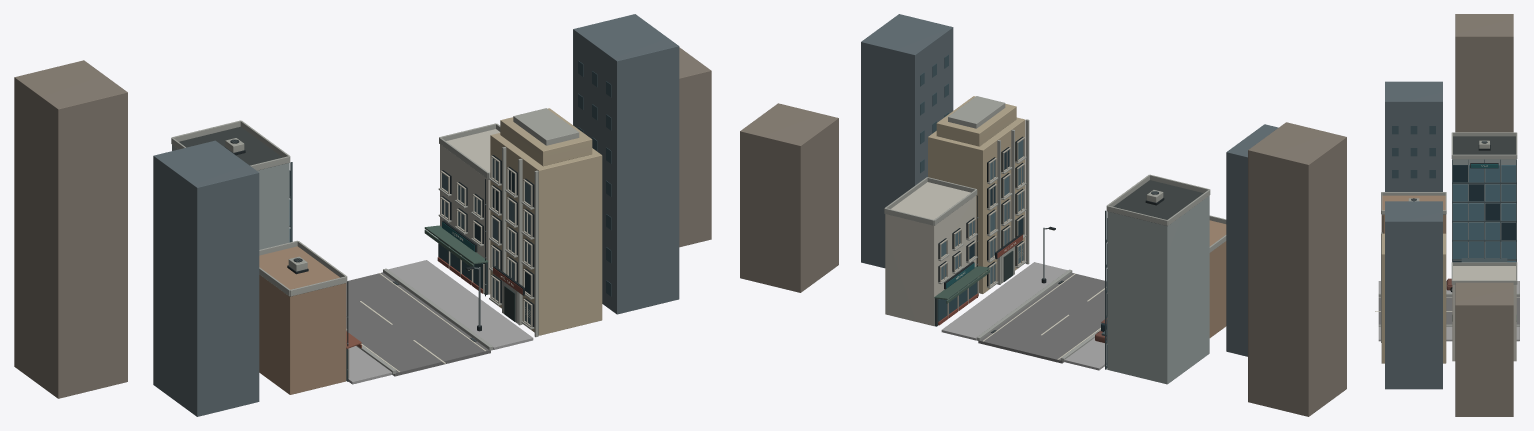
The model's file is city_hd_06.glb.
3 renders of one model, left to right at view 1: azimuth 30°, elevation 25°; view 2: azimuth 150°, elevation 25°; view 3: azimuth 270°, elevation 25°, orthographic. The views are drawn at different scales.
Visible parts, largest first — view 1: CITY_distant_2, CITY_distant_3, CITY_wall_ivory, Mixed use shop volume, CITY_PBR_asphalt, CITY_trim, CITY_PBR_pavement, CITY_frame, Mixed use shop volume.001, Office core, CITY_glass, CITY_roof (+6 smaller); view 2: CITY_distant_3, CITY_distant_2, Office core, Mixed use shop volume.001, CITY_wall_ivory, CITY_PBR_asphalt, CITY_trim, CITY_PBR_pavement, CITY_frame, Mixed use shop volume, CITY_roof, CITY_glass (+4 smaller); view 3: CITY_distant_2, CITY_distant_3, CITY_office_glass, CITY_trim, Mixed use shop volume.001, CITY_office_frame, Office core, CITY_roof, CITY_glass_dark, CITY_wall_ivory, Mixed use shop volume, CITY_distant_window (+3 smaller).
Part boxes in pixels (x1,y1,x2,y2): CITY_distant_2: [153, 14, 679, 416]; CITY_distant_3: [14, 47, 711, 398]; CITY_wall_ivory: [490, 108, 602, 335]; Mixed use shop volume: [259, 246, 346, 394]; CITY_PBR_asphalt: [346, 272, 490, 376]; CITY_trim: [171, 108, 579, 337]; CITY_PBR_pavement: [348, 260, 533, 384]; CITY_frame: [348, 155, 532, 378]; Mixed use shop volume.001: [440, 129, 500, 294]; Office core: [172, 144, 289, 249]; CITY_glass: [442, 158, 530, 324]; CITY_roof: [179, 126, 488, 296]; CITY_distant_3: [740, 103, 1346, 416]; CITY_distant_2: [861, 14, 1278, 356]; Office core: [1107, 196, 1209, 384]; Mixed use shop volume.001: [885, 182, 976, 325]; CITY_wall_ivory: [928, 96, 1025, 293]; CITY_PBR_asphalt: [978, 273, 1107, 363]; CITY_trim: [884, 96, 1226, 288]; CITY_PBR_pavement: [941, 262, 1106, 370]; CITY_frame: [939, 137, 1024, 317]; Mixed use shop volume: [1209, 220, 1226, 337]; CITY_roof: [1113, 180, 1203, 225]; CITY_glass: [941, 140, 1023, 284]; CITY_distant_2: [1385, 81, 1442, 389]; CITY_distant_3: [1455, 14, 1513, 416]; CITY_office_glass: [1453, 165, 1515, 262]; CITY_trim: [1381, 132, 1517, 342]; Mixed use shop volume.001: [1452, 266, 1516, 361]; CITY_office_frame: [1452, 159, 1516, 262]; Office core: [1452, 159, 1516, 261]; CITY_roof: [1382, 136, 1515, 214]; CITY_glass_dark: [1453, 165, 1515, 262]; CITY_wall_ivory: [1381, 233, 1446, 363]; Mixed use shop volume: [1381, 195, 1446, 233]; CITY_distant_window: [1392, 126, 1435, 178].
Bounding box in the file's own units: 56.65 × 24.26 × 16.4.
